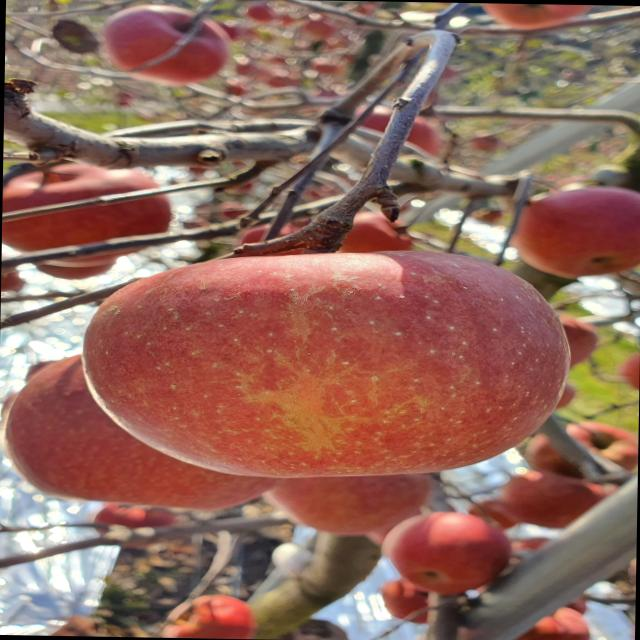fresh: (60, 235, 591, 488)
